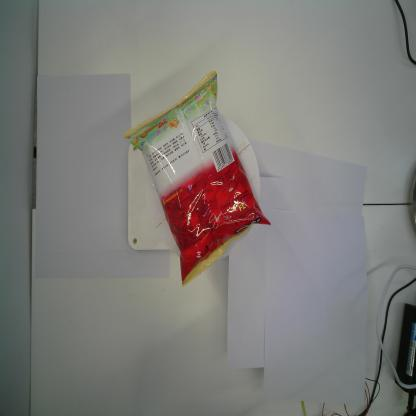Puffed Food: (124, 67, 273, 288)
